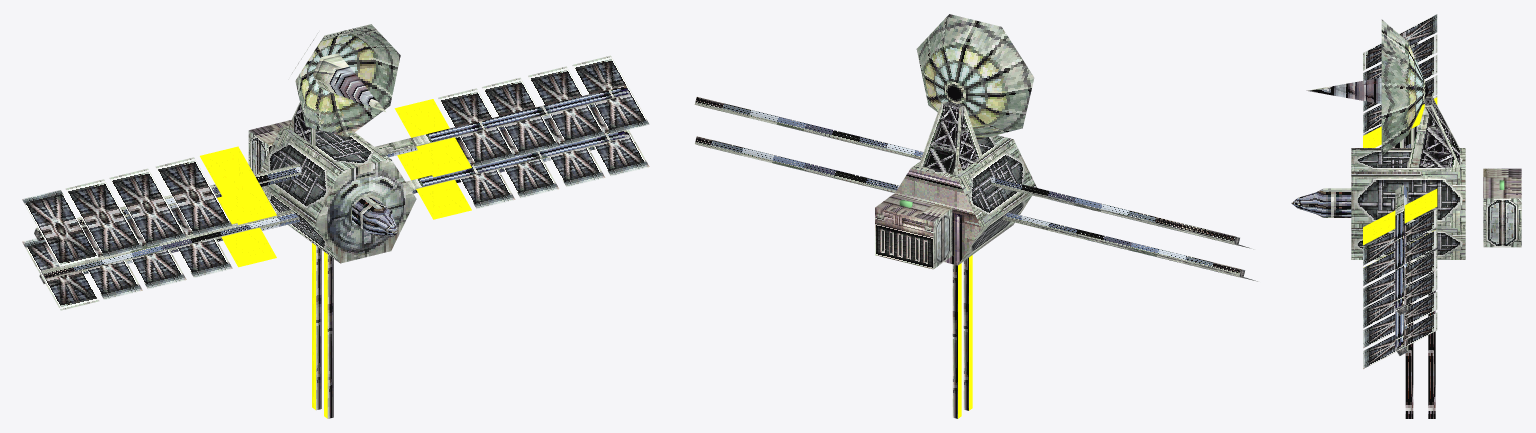
The model's file is tlaser_cmp.gltf.
3 renders of one model, left to right at view 1: azimuth 30°, elevation 25°; view 2: azimuth 150°, elevation 25°; view 3: azimuth 270°, elevation 25°, orthographic. The views are drawn at different scales.
Parts seen in each view (by area): view 1: turret, radar; view 2: turret, radar; view 3: turret, radar.
Part boxes in pixels (left/top/right/bottom): turret: left=22, top=55, right=649, bottom=418; radar: left=291, top=24, right=400, bottom=137; turret: left=694, top=97, right=1258, bottom=418; radar: left=916, top=14, right=1034, bottom=139; turret: left=1291, top=14, right=1521, bottom=418; radar: left=1306, top=19, right=1428, bottom=155.
Size of the model in its own units: 18.83 by 12.36 by 6.65.
Materials: 9 (8 with a texture image).
